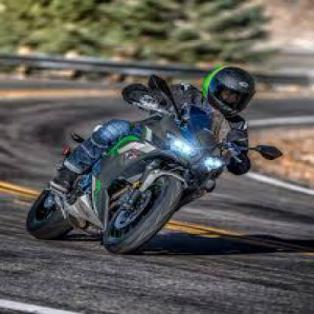Motocicleta: (15, 107, 217, 255)
